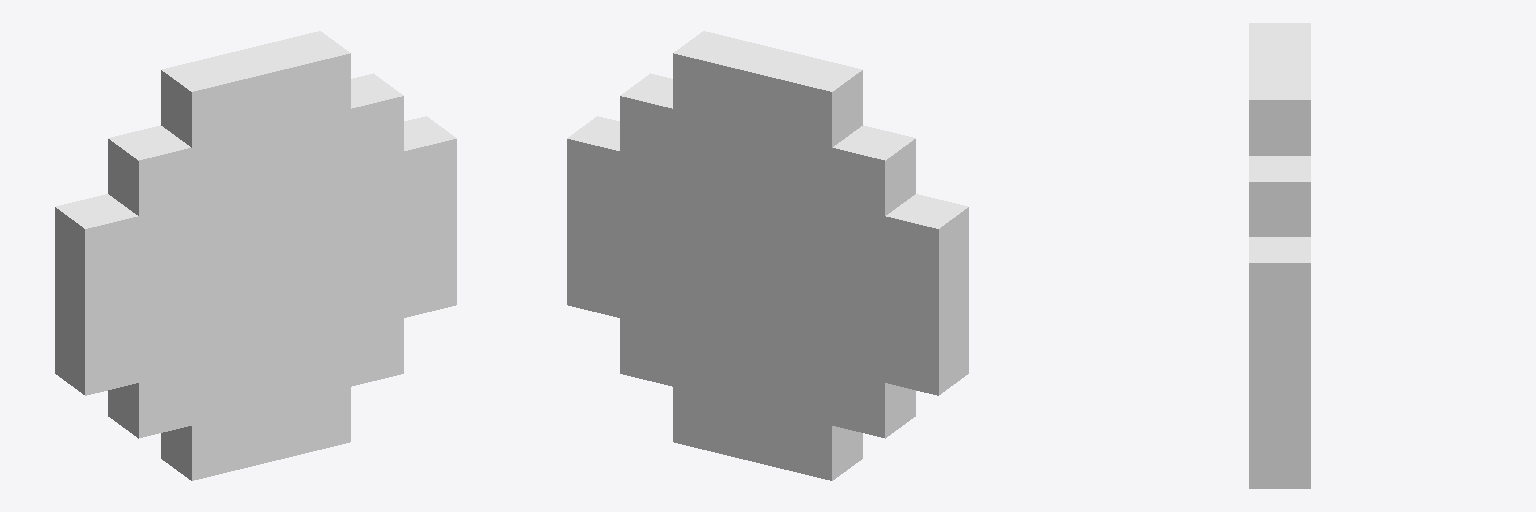
The model's file is LocationPortal.obj.
3 renders of one model, left to right at view 1: azimuth 30°, elevation 25°; view 2: azimuth 150°, elevation 25°; view 3: azimuth 270°, elevation 25°, orthographic.
Parts seen in each view (by area): view 1: LocationPortal; view 2: LocationPortal; view 3: LocationPortal.
Boxes of the visible parts, <box> form: LocationPortal: <box>55,31,456,480</box>; LocationPortal: <box>567,31,968,480</box>; LocationPortal: <box>1249,23,1310,488</box>.
Size of the model in its own units: 7 by 7 by 1.